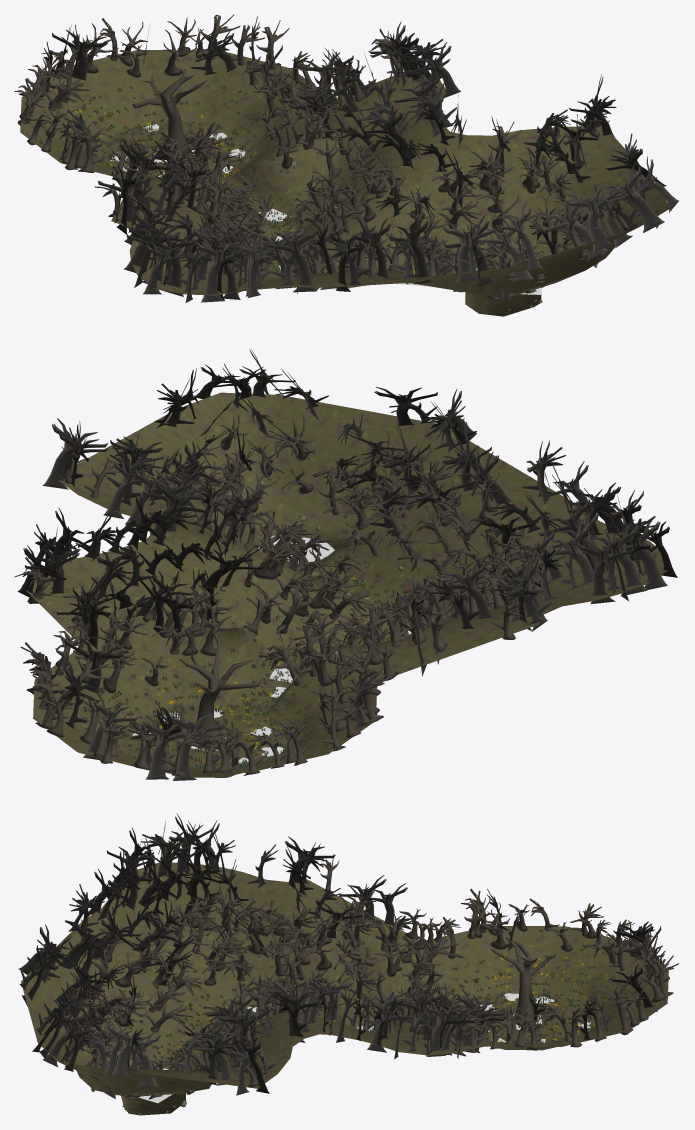
The model's file is swamp2.glb.
The picture shows the model from 3 angles, top to bottom: view 1: azimuth 30°, elevation 25°; view 2: azimuth 150°, elevation 25°; view 3: azimuth 270°, elevation 25°; orthographic projection. The views are drawn at different scales.
Parts seen in each view (by area): view 1: Plane-col, tree_1_billboard (×26), MainTree.col, TreeBcg2, TreeBcg, tree_2_billboard; view 2: Plane-col, tree_1_billboard (×13), MainTree.col; view 3: Plane-col, tree_1_billboard (×13), MainTree.col.
Part boxes in pixels (bbox=[...]): Plane-col: bbox=[20, 50, 669, 316]; tree_1_billboard (×26): bbox=[52, 29, 664, 302]; MainTree.col: bbox=[133, 68, 207, 159]; TreeBcg2: bbox=[64, 124, 103, 172]; TreeBcg: bbox=[162, 29, 196, 76]; tree_2_billboard: bbox=[326, 238, 370, 284]; Plane-col: bbox=[22, 392, 667, 777]; tree_1_billboard (×13): bbox=[42, 418, 667, 780]; MainTree.col: bbox=[179, 630, 263, 747]; Plane-col: bbox=[21, 862, 668, 1115]; tree_1_billboard (×13): bbox=[18, 858, 468, 1087]; MainTree.col: bbox=[491, 937, 555, 1025].
Bounding box in the file's own units: 189 × 53.27 × 226.
Materials: 9 (6 with a texture image).
